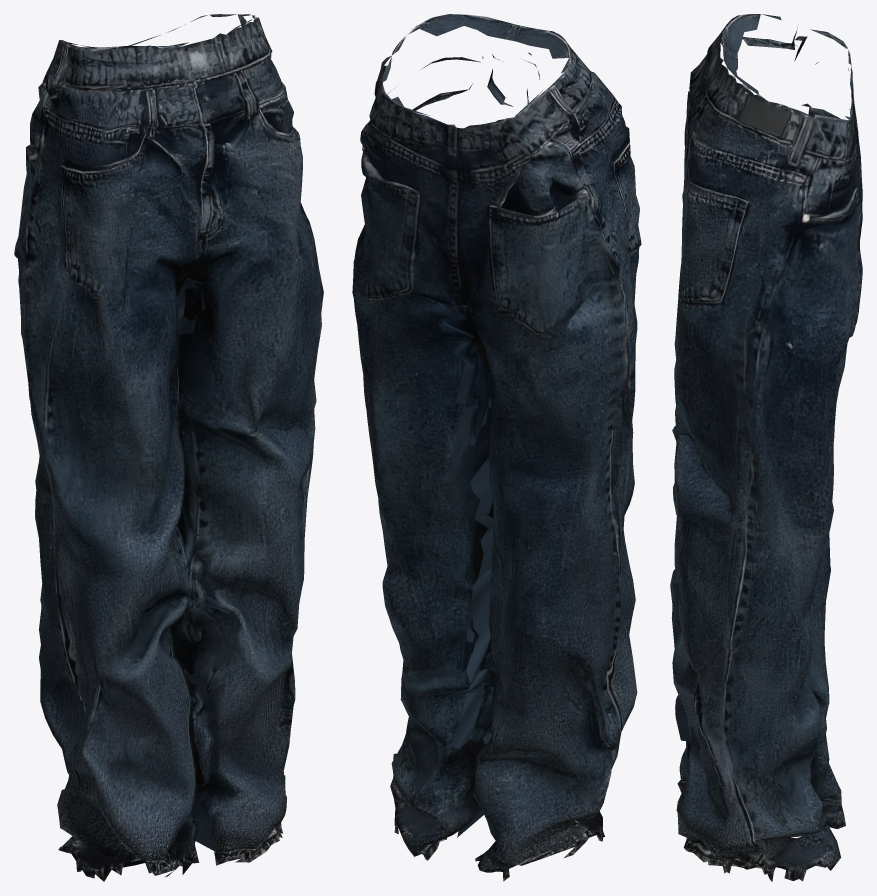
3 views of the same model, side by side, from view 1: azimuth 30°, elevation 25°; view 2: azimuth 150°, elevation 25°; view 3: azimuth 270°, elevation 25° (orthographic). The views are drawn at different scales.
Parts seen in each view (by area): view 1: Roupa_006; view 2: Roupa_006; view 3: Roupa_006.
Part boxes in pixels (x1=…): Roupa_006: x1=14, y1=14, x2=323, y2=881; Roupa_006: x1=352, y1=14, x2=641, y2=881; Roupa_006: x1=670, y1=14, x2=862, y2=881.
Size of the model in its own units: 0.3468 by 0.9533 by 0.2063.
1 material, 1 textured.
